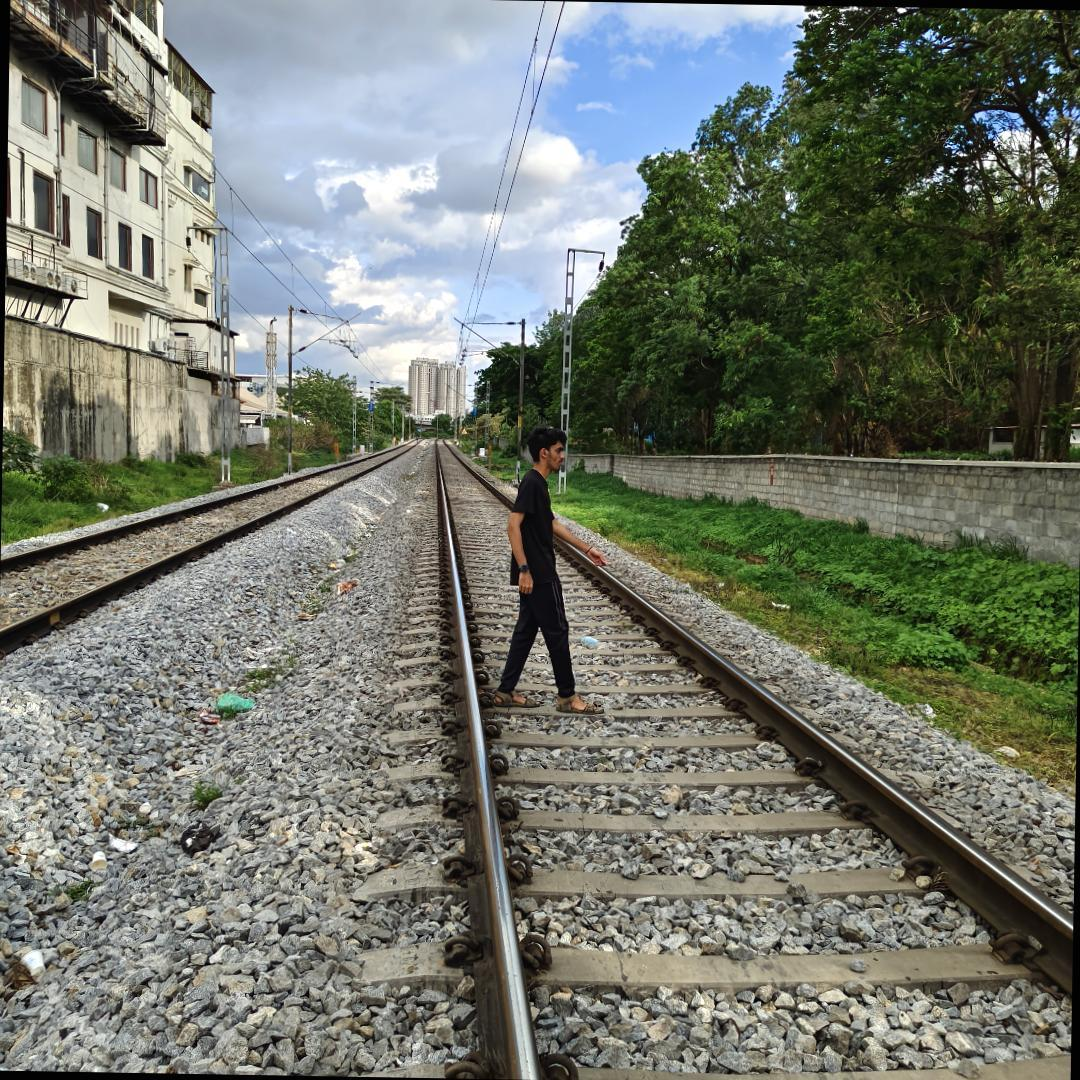standing: (486, 419, 594, 721)
